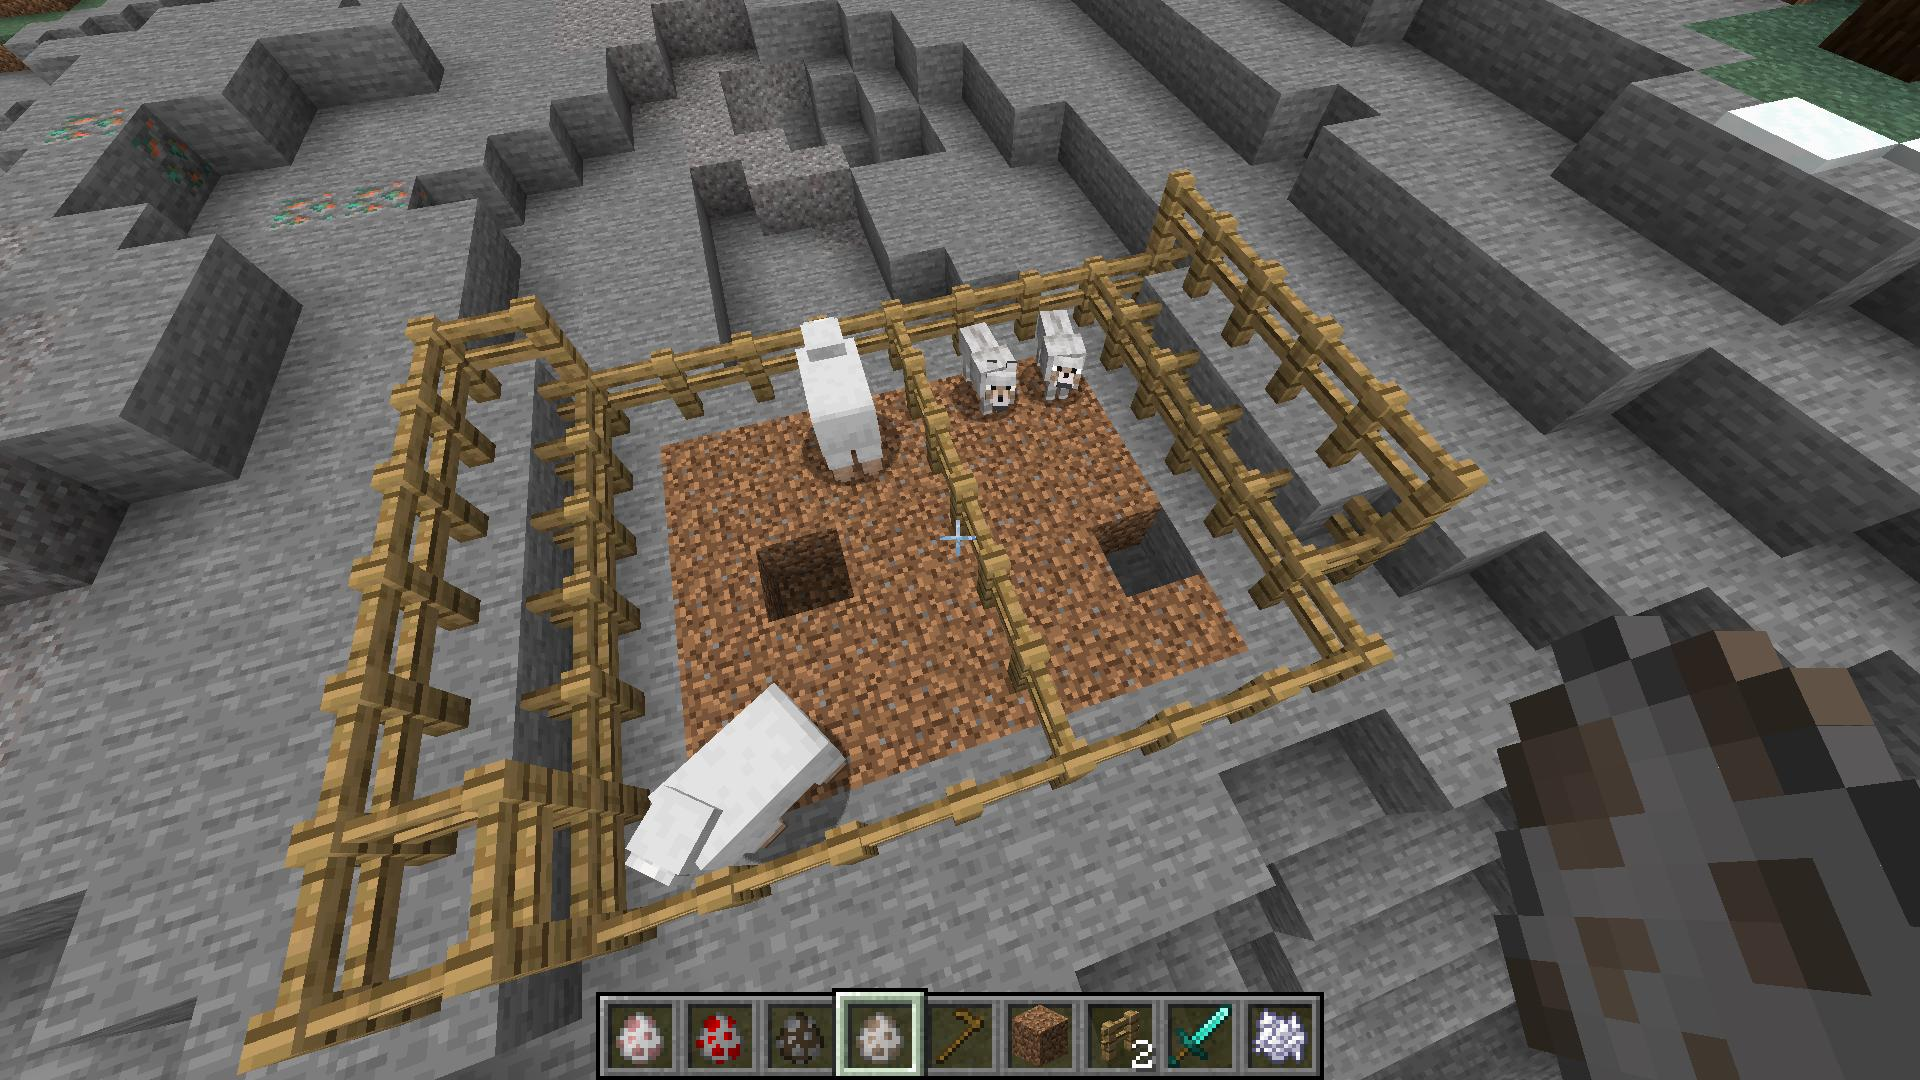sheep: (618, 679, 852, 897), (787, 318, 890, 485)
wolf: (953, 319, 1023, 418), (1033, 301, 1093, 407)
